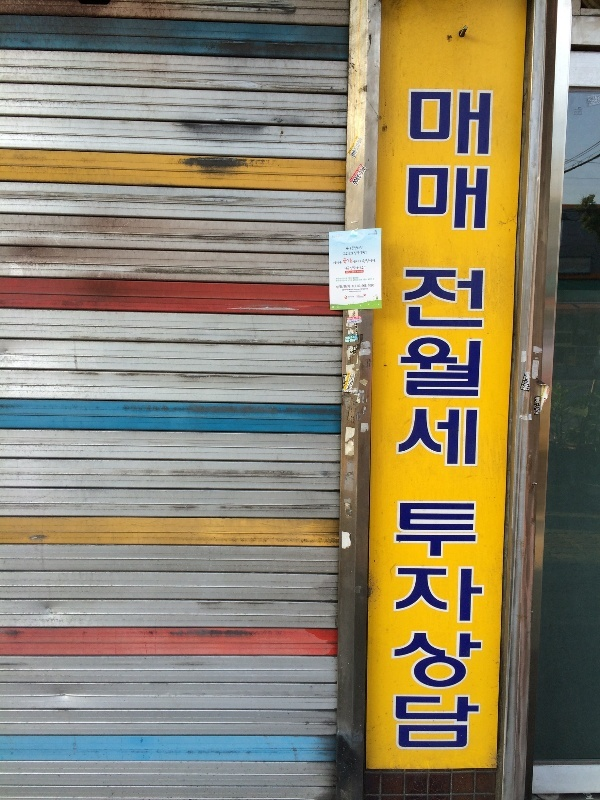text: (401, 501, 416, 753), (417, 501, 432, 753), (433, 501, 448, 753), (449, 501, 464, 753), (465, 501, 480, 753), (417, 269, 432, 469), (433, 269, 448, 469), (449, 269, 464, 469), (465, 269, 480, 469), (402, 269, 416, 469), (417, 89, 432, 235), (433, 89, 448, 235), (449, 89, 464, 235), (465, 89, 480, 235), (481, 89, 493, 235), (395, 501, 400, 753), (481, 501, 486, 753), (408, 89, 416, 235), (481, 269, 485, 469), (353, 166, 366, 186), (353, 138, 363, 158), (353, 316, 362, 324), (343, 258, 352, 265), (353, 260, 368, 264), (353, 284, 368, 288), (337, 279, 352, 283), (353, 279, 368, 283), (353, 266, 367, 270), (337, 285, 351, 289), (353, 246, 363, 251), (345, 336, 352, 343), (337, 277, 352, 280), (353, 288, 368, 291), (347, 316, 352, 324), (353, 374, 355, 392), (353, 336, 358, 343), (347, 347, 352, 354), (346, 246, 352, 251), (342, 288, 352, 291), (369, 260, 376, 264), (345, 266, 352, 270), (369, 284, 375, 288), (369, 279, 375, 283), (353, 347, 356, 354), (351, 138, 352, 158), (337, 261, 342, 265), (353, 277, 359, 280), (351, 374, 352, 392), (353, 291, 361, 293), (334, 261, 336, 265), (349, 291, 352, 293)
